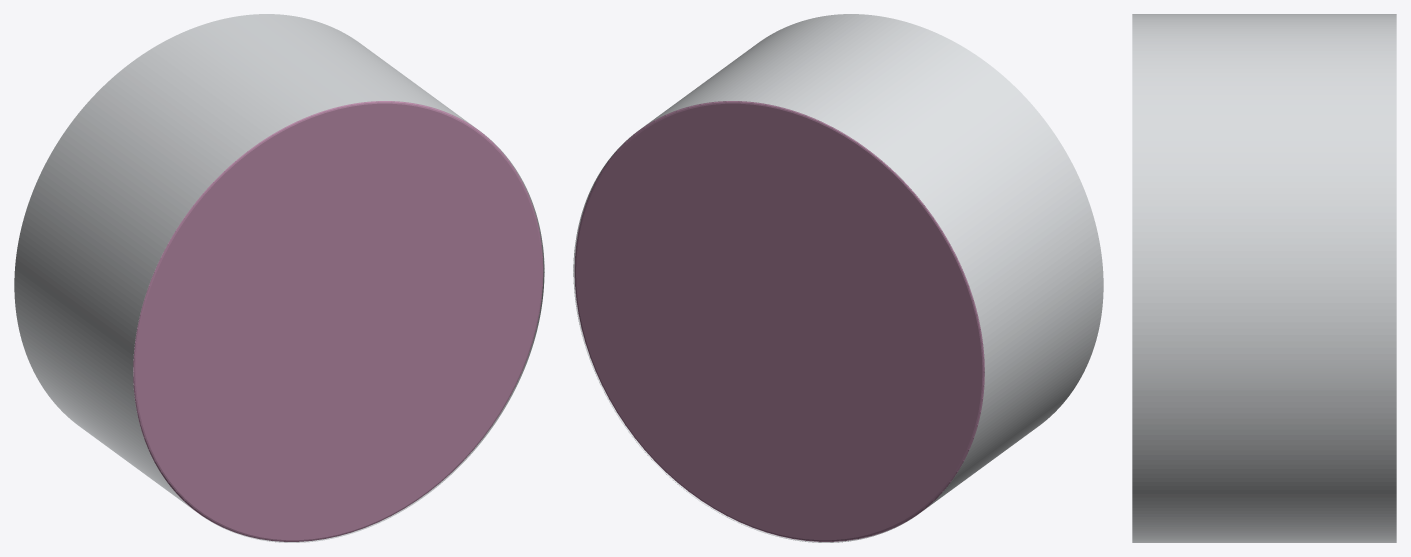
Rendered from foil_mesh_rejected_v1.glb.
The picture shows the model from 3 angles, left to right: view 1: azimuth 30°, elevation 25°; view 2: azimuth 150°, elevation 25°; view 3: azimuth 270°, elevation 25°; orthographic projection. The views are drawn at different scales.
Visible parts, largest first — view 1: COOLER_WHITE__foam_1, COOLER_WHITE__foam_mylar_1; view 2: COOLER_WHITE__foam_1, COOLER_WHITE__foam_mylar_1; view 3: COOLER_WHITE__foam_mylar_1.
Part boxes in pixels (<box>): COOLER_WHITE__foam_1: <box>133,101,543,541</box>; COOLER_WHITE__foam_mylar_1: <box>14,14,544,542</box>; COOLER_WHITE__foam_1: <box>574,101,984,541</box>; COOLER_WHITE__foam_mylar_1: <box>573,14,1103,542</box>; COOLER_WHITE__foam_mylar_1: <box>1132,14,1396,542</box>.
Bounding box in the file's own units: 0.05 × 0.05 × 0.025.
